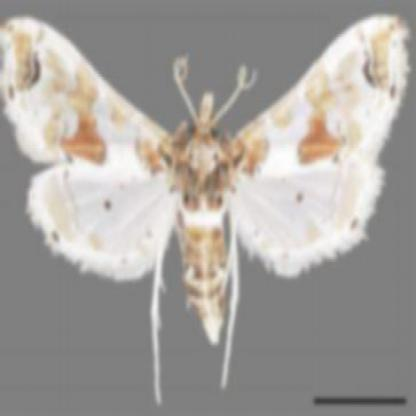leucinodes: (0, 15, 405, 345)
